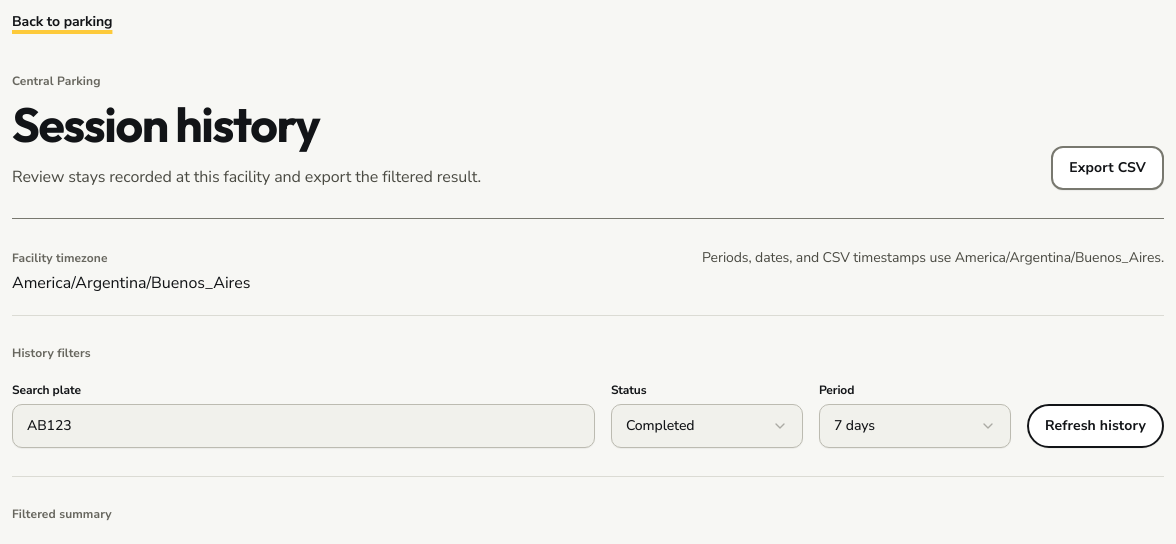
parking session history pagination › exports the same normalized filters and announces the completed download
The width and height of the screenshot is (1176, 544).
Click the button "Export CSV": (1108, 168) [1051,146,1164,190]
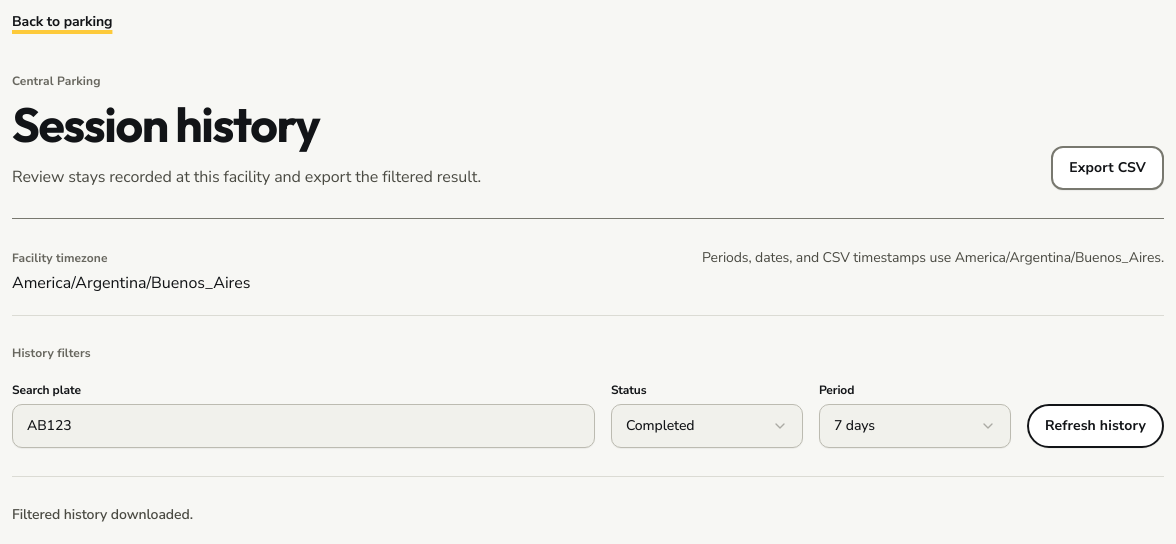
Expected: the text "Filtered history downloaded." is shown, [12,505,193,524]
